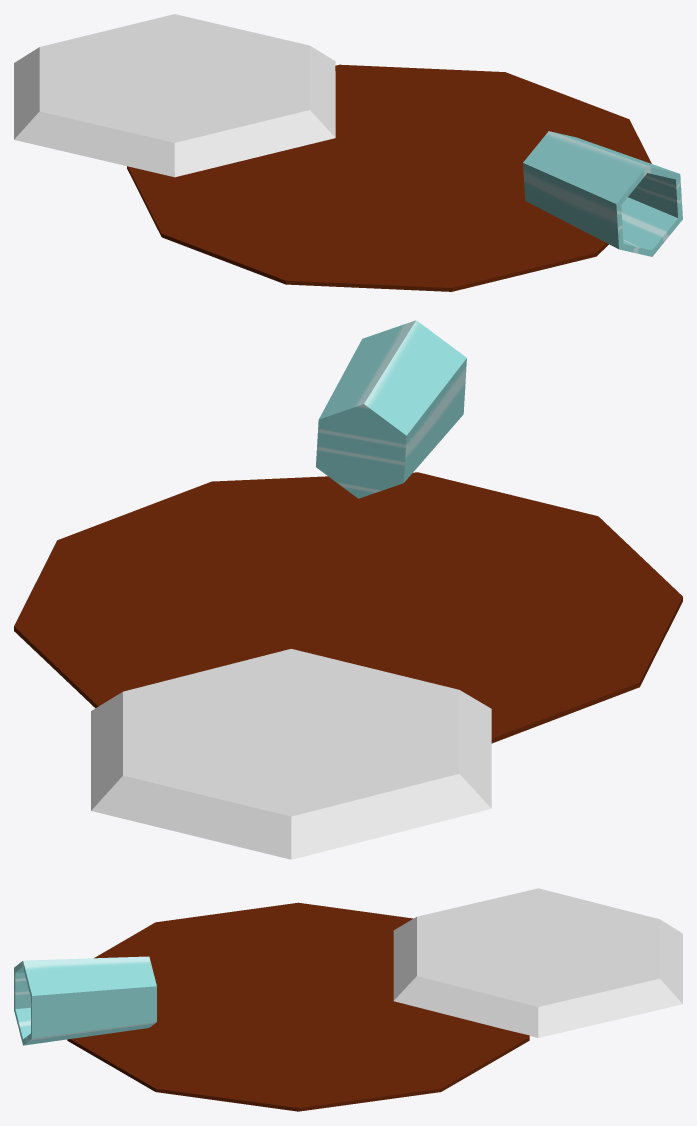
Rendered from Table_Broke.fbx.
3 views of the same model, one above another, from view 1: azimuth 30°, elevation 25°; view 2: azimuth 150°, elevation 25°; view 3: azimuth 270°, elevation 25° (orthographic). The views are drawn at different scales.
Parts seen in each view (by area): view 1: pCylinder31, pCylinder27, pCylinder26; view 2: pCylinder31, pCylinder27, pCylinder26; view 3: pCylinder31, pCylinder27, pCylinder26.
Part boxes in pixels (x1=…): pCylinder31: x1=127, y1=64, x2=651, y2=291; pCylinder27: x1=14, y1=14, x2=335, y2=177; pCylinder26: x1=523, y1=131, x2=682, y2=256; pCylinder31: x1=14, y1=472, x2=682, y2=743; pCylinder27: x1=91, y1=649, x2=491, y2=859; pCylinder26: x1=316, y1=320, x2=466, y2=498; pCylinder31: x1=67, y1=902, x2=529, y2=1111; pCylinder27: x1=393, y1=888, x2=682, y2=1037; pCylinder26: x1=14, y1=956, x2=156, y2=1045.
Size of the model in its own units: 3.31 by 0.6673 by 4.42.
Materials: 3 (1 with a texture image).
